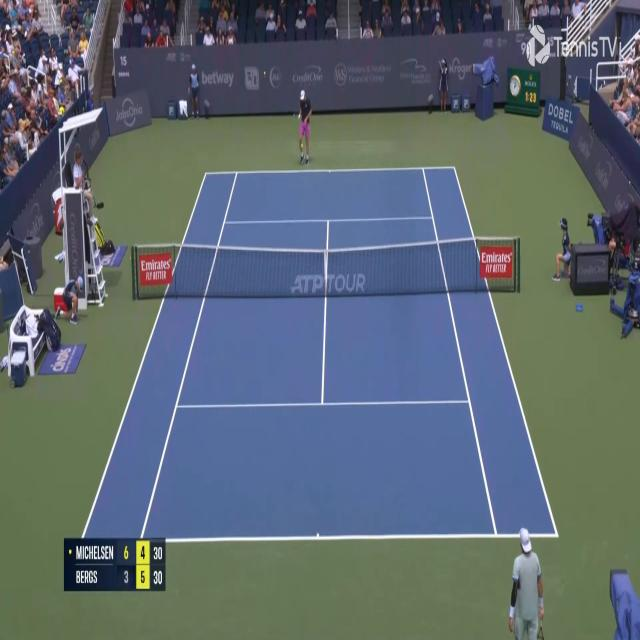tennis-player: (506, 526, 546, 640), (294, 89, 313, 166)
